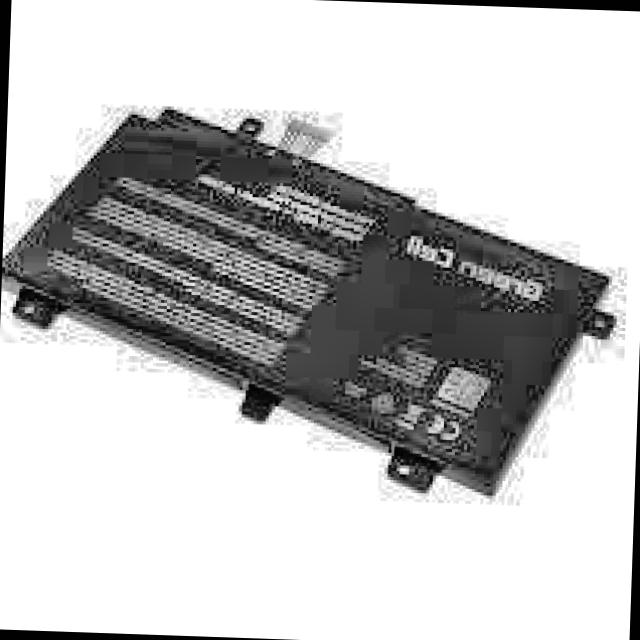Battery: (0, 110, 608, 481)
